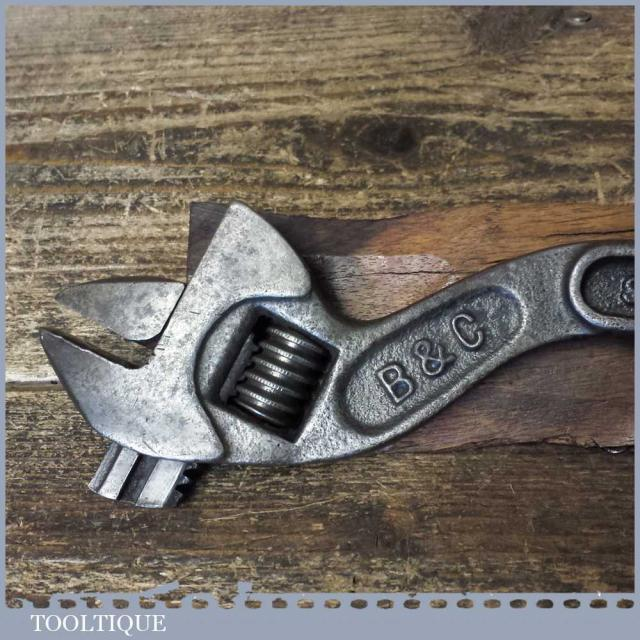wrench: (34, 188, 640, 521)
